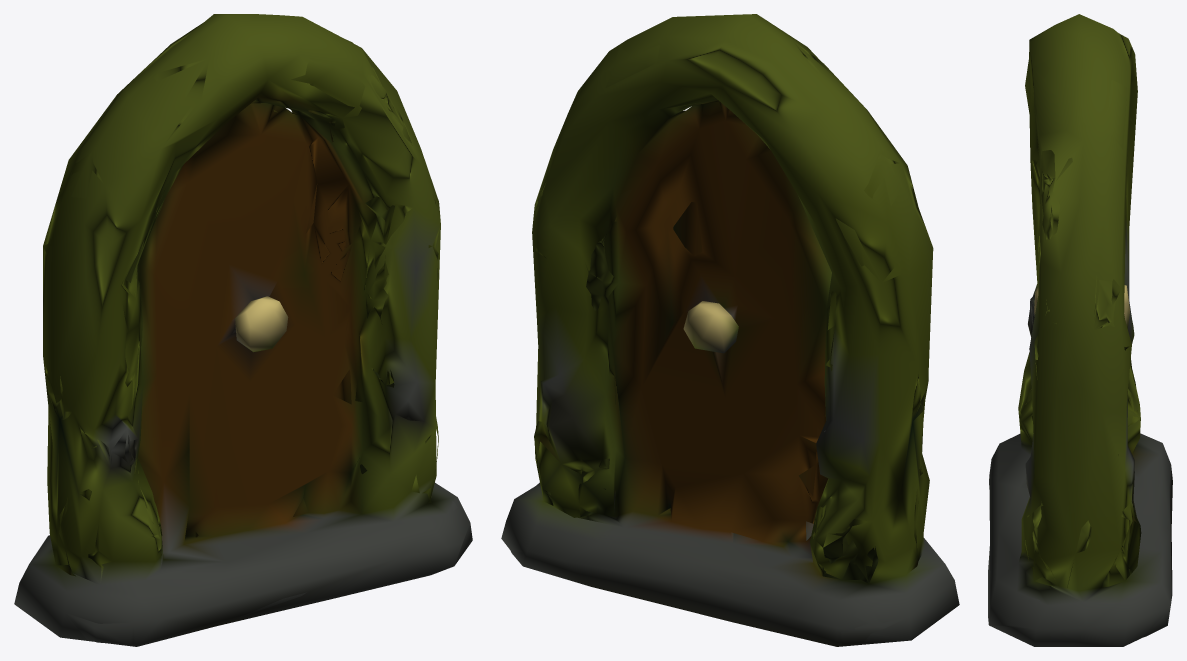
The model's file is gen3d-fairy-door-lod0.glb.
3 renders of one model, left to right at view 1: azimuth 30°, elevation 25°; view 2: azimuth 150°, elevation 25°; view 3: azimuth 270°, elevation 25°, orthographic. The views are drawn at different scales.
Parts seen in each view (by area): view 1: part_0; view 2: part_0; view 3: part_0.
Boxes of the visible parts, x1,y1,x2,y2 form: part_0: (14,14,472,646); part_0: (501,14,959,646); part_0: (988,14,1172,646).
Size of the model in its own units: 0.7645 by 1 by 0.3139.
